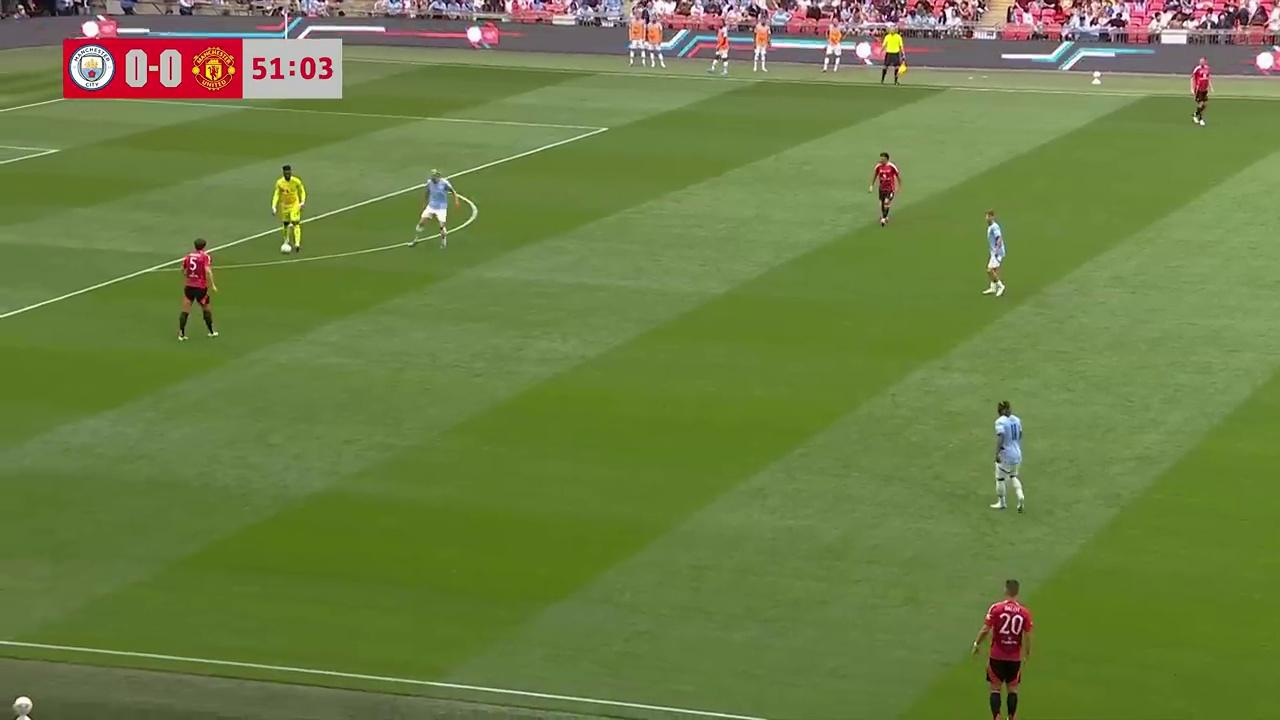ball: (279, 243, 294, 254)
player: (970, 578, 1034, 720), (177, 238, 219, 340), (991, 400, 1025, 513), (270, 164, 307, 253), (414, 174, 450, 249), (869, 151, 901, 227), (982, 209, 1006, 297), (1190, 59, 1212, 126)
referee: (881, 33, 906, 86)
